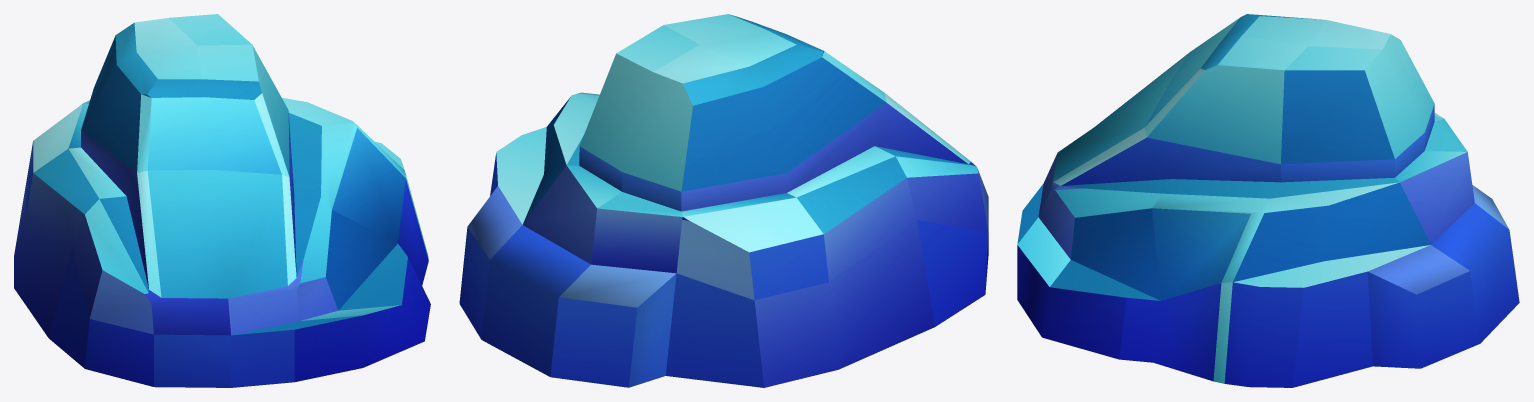
Rendered from roundStone.fbx.
3 views of the same model, side by side, from view 1: azimuth 30°, elevation 25°; view 2: azimuth 150°, elevation 25°; view 3: azimuth 270°, elevation 25° (orthographic). The views are drawn at different scales.
Visible parts, largest first — view 1: rockRound; view 2: rockRound; view 3: rockRound.
Boxes of the visible parts, x1,y1,x2,y2 form: rockRound: (14,14,430,387); rockRound: (459,14,988,387); rockRound: (1017,14,1519,387).
Size of the model in its own units: 121 by 69.25 by 131.
